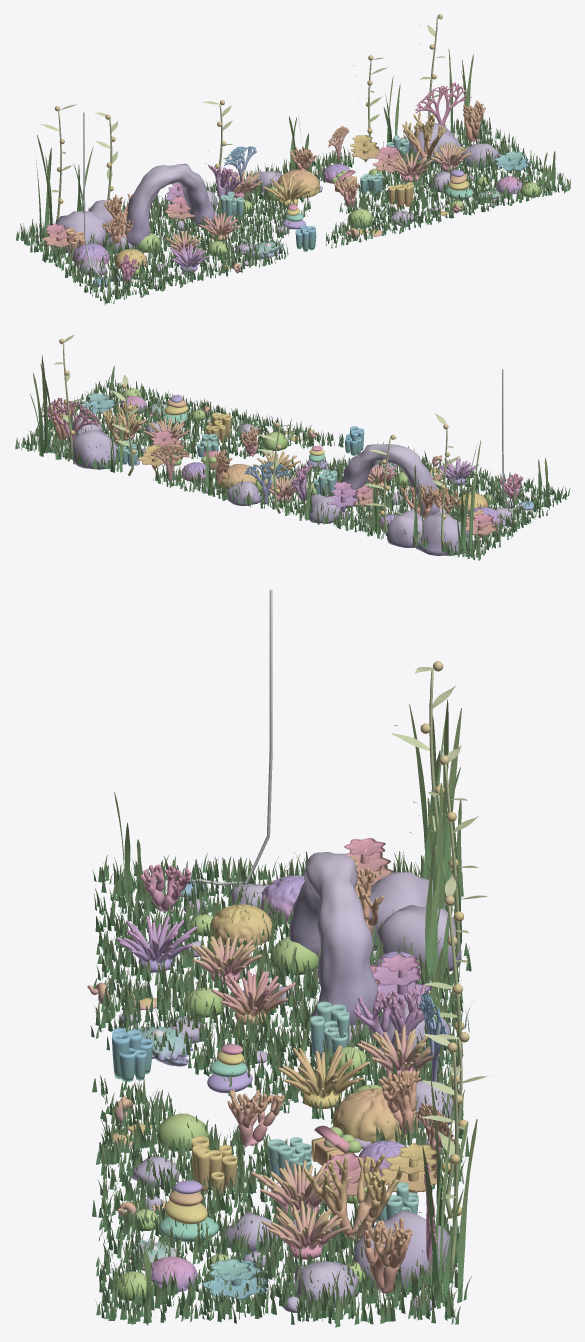
The model's file is aquascape.glb.
The picture shows the model from 3 angles, top to bottom: view 1: azimuth 30°, elevation 25°; view 2: azimuth 150°, elevation 25°; view 3: azimuth 270°, elevation 25°; orthographic projection. The views are drawn at different scales.
Parts seen in each view (by area): view 1: jelly_soft, jelly_rigid; view 2: jelly_soft, jelly_rigid; view 3: jelly_soft, jelly_rigid.
Boxes of the visible parts, <box> form: jelly_soft: <box>16,14,570,305</box>; jelly_rigid: <box>42,100,541,286</box>; jelly_soft: <box>15,335,570,560</box>; jelly_rigid: <box>47,369,533,555</box>; jelly_soft: <box>90,661,488,1327</box>; jelly_rigid: <box>87,589,461,1312</box>.
Bounding box in the file's own units: 40.49 × 13.35 × 15.26.
